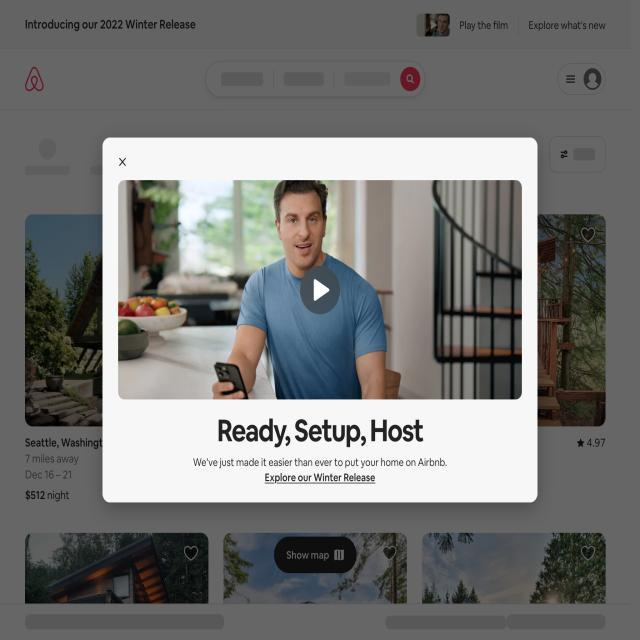image: (122, 175, 524, 401)
modal: (95, 129, 548, 514)
